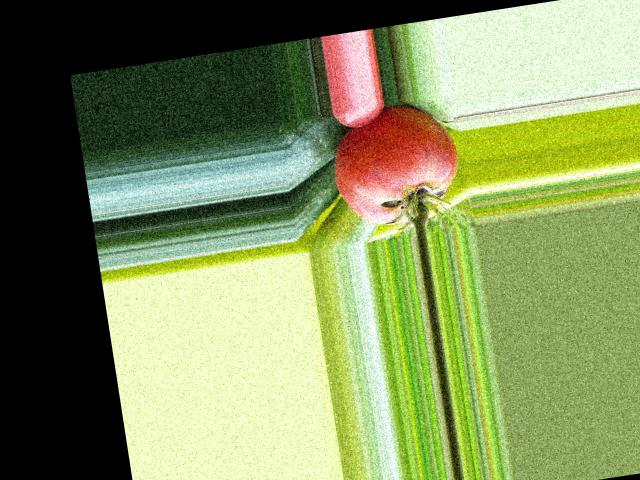tomato: (326, 96, 466, 230)
